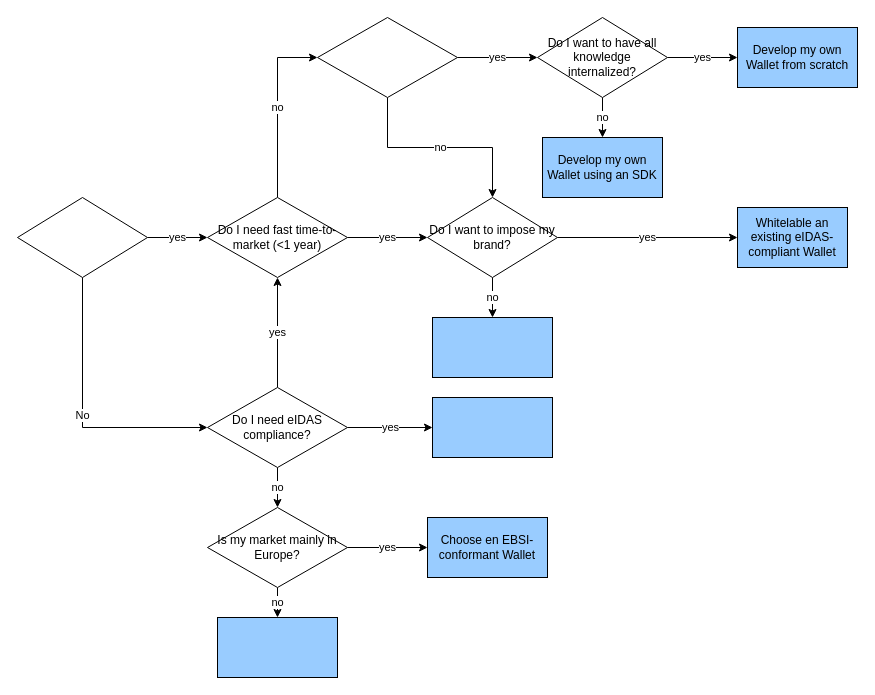
This 875x695 diagram has some shape labels left out. Here are the shapes that lost their labels. From the top down, the centre of each, then its label:
At point (387, 57): "Do I want full customization of features?".
At point (82, 237): "Am I a national public authority?".
At point (492, 347): "Certify existing eIDAS-compliant Wallets".
At point (492, 427): "Coordinate with national authority to gather which wallets they will use".
At point (277, 647): "Choose any existing SSI wallet".
